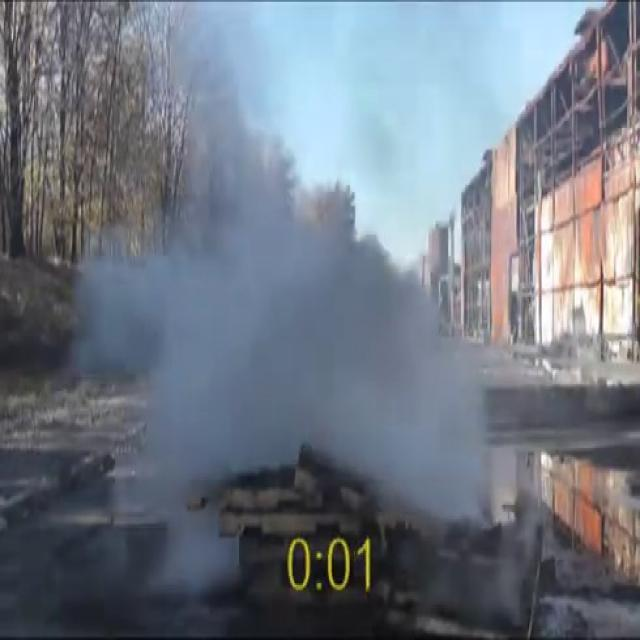Smoke: (77, 22, 495, 559)
